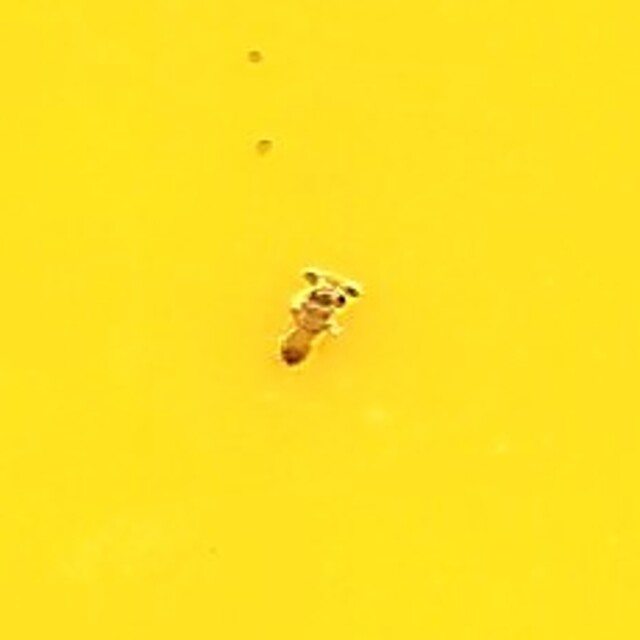Hymenoptera: (278, 270, 362, 370)
